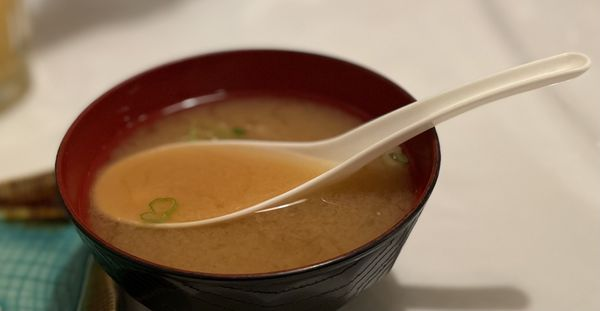salad: (181, 51, 592, 222)
